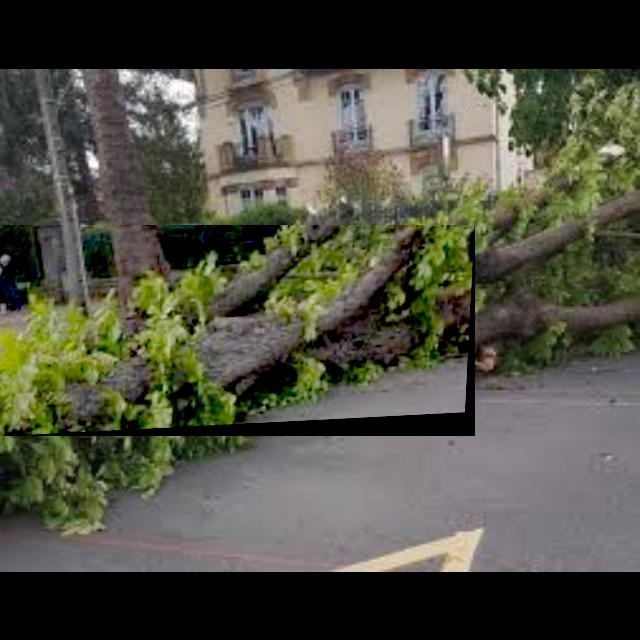Fallen Tree: (0, 225, 476, 437)
